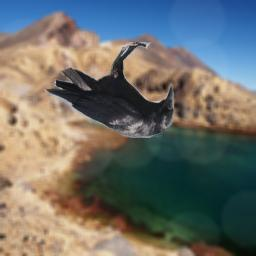Crow: (44, 42, 174, 138)
